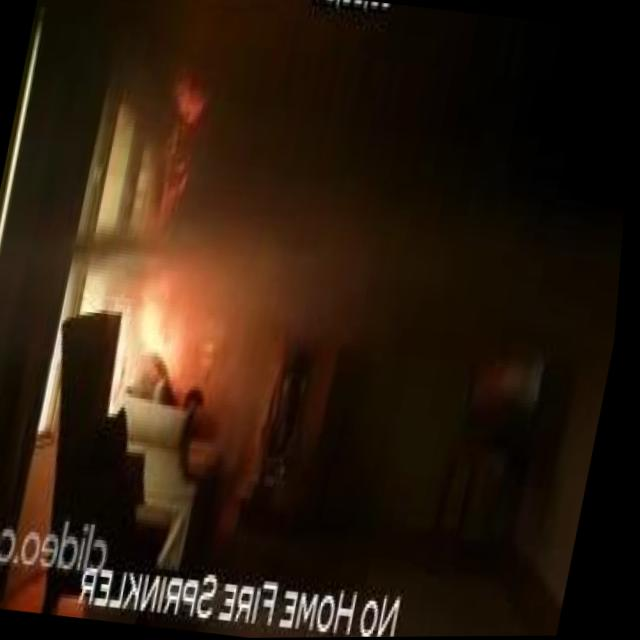fire: (144, 73, 214, 235), (130, 278, 202, 381)
